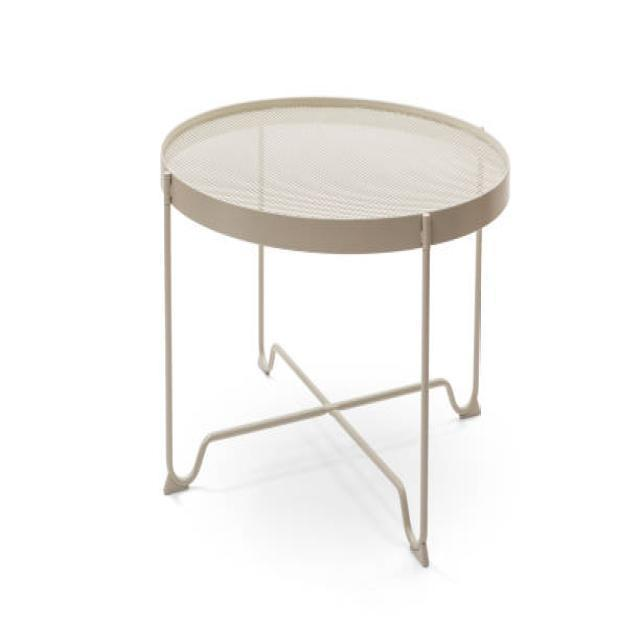table: (158, 93, 511, 568)
